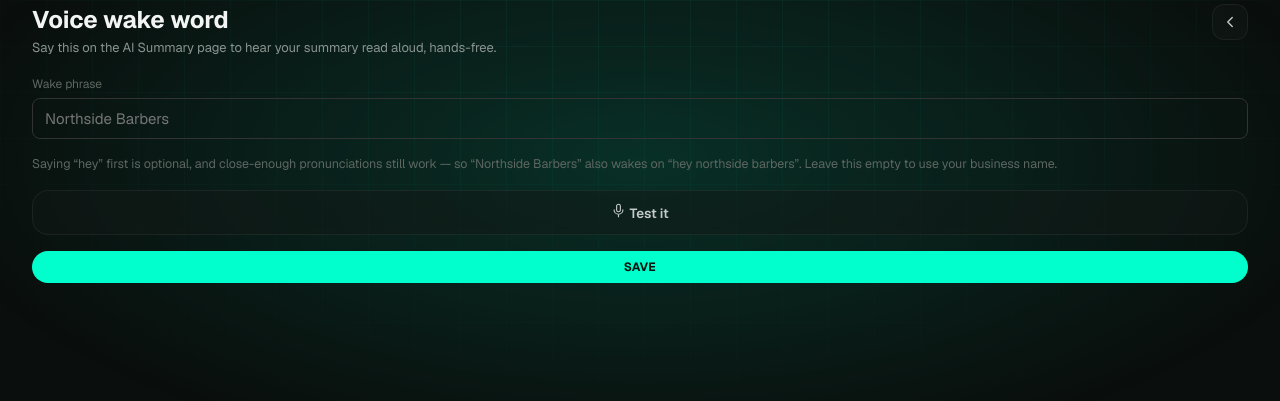
Test: WakeWordSettings › shows an error when saving fails
Type "Northside" into the field with placeholder "Northside Barbers".
click(640, 118); type("Northside")  # box [32,98,1248,139]
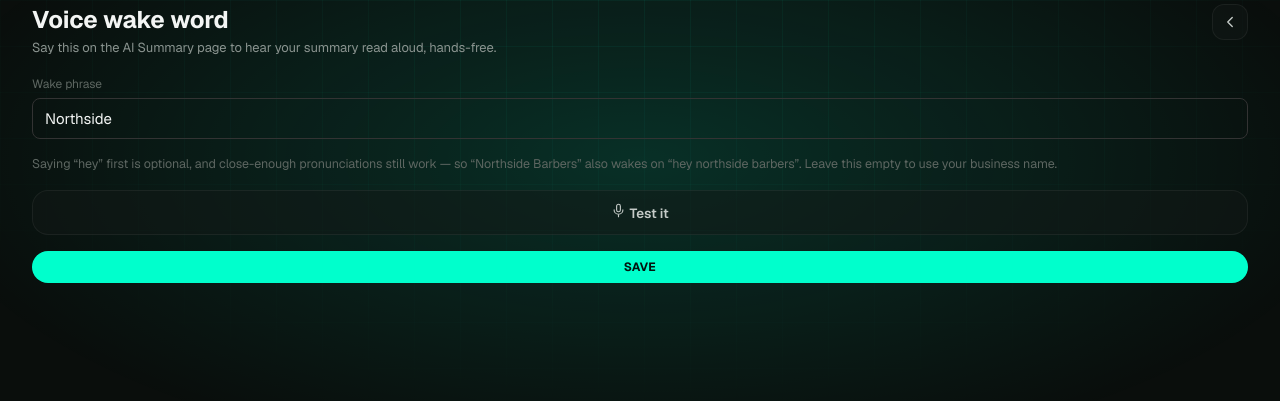
Click the button "Save".
click(640, 267)  # box [32,251,1248,283]
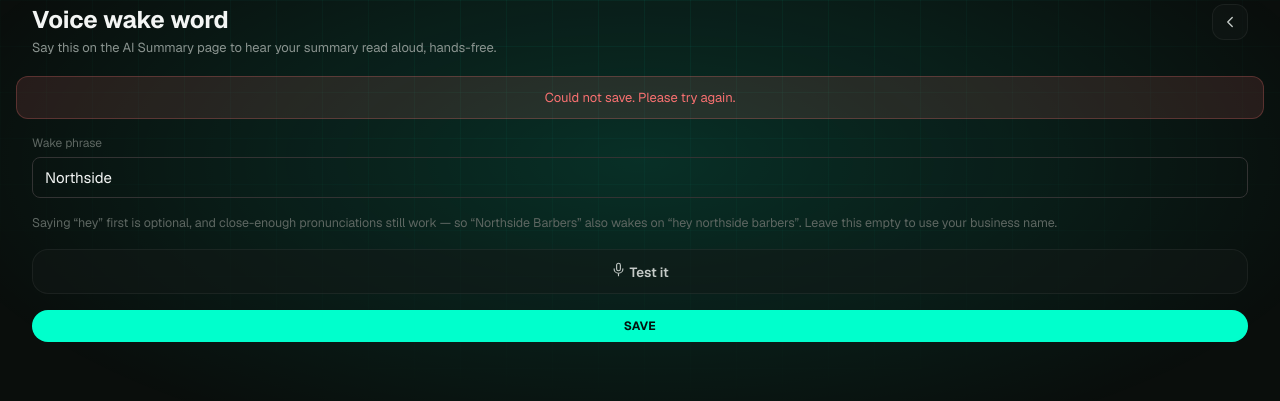
Check: the text "Could not save. Please try again." is shown, box [16,76,1264,119]
